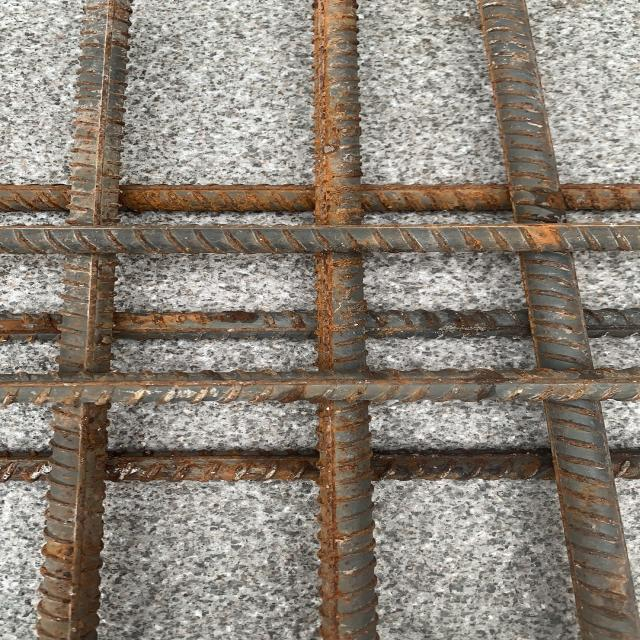ribbed bar: (474, 0, 638, 639), (30, 0, 136, 639), (312, 0, 380, 639), (0, 365, 639, 405), (0, 305, 639, 343), (0, 445, 639, 482), (0, 220, 639, 254), (0, 183, 639, 213)
